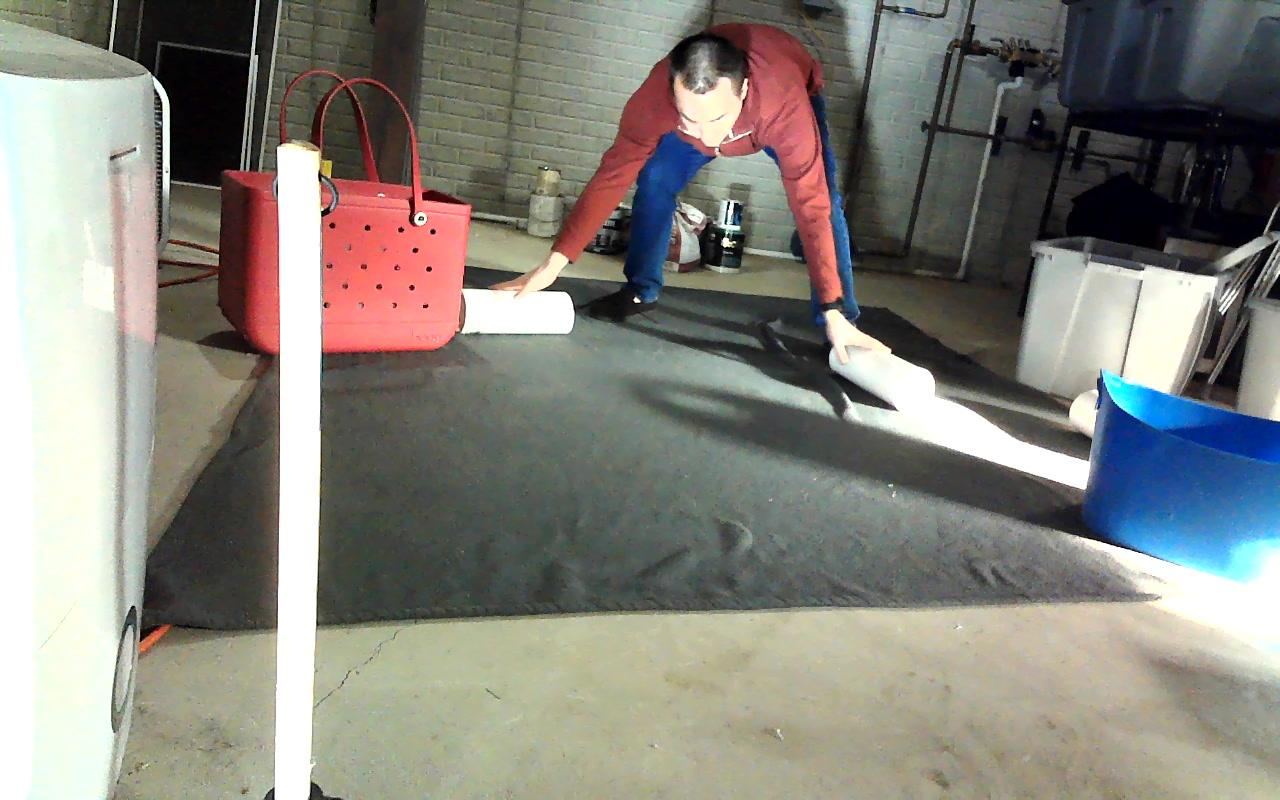coral: (828, 341, 932, 412), (461, 289, 573, 334)
